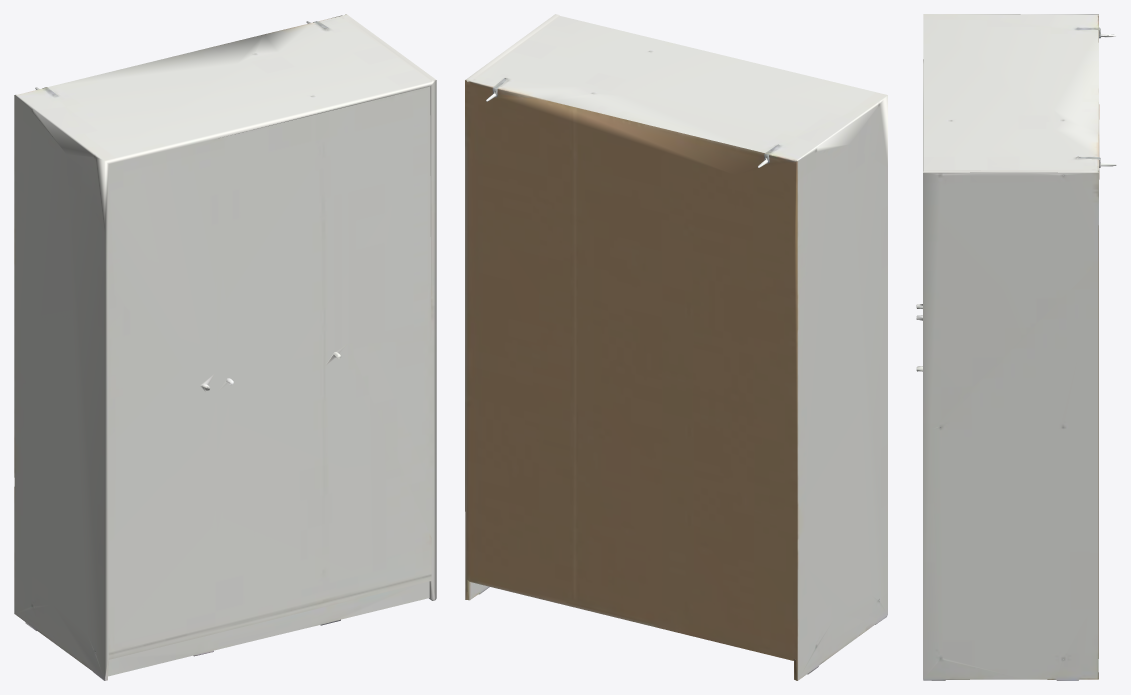
3 views of the same model, side by side, from view 1: azimuth 30°, elevation 25°; view 2: azimuth 150°, elevation 25°; view 3: azimuth 270°, elevation 25° (orthographic). The views are drawn at different scales.
Parts seen in each view (by area): view 1: ProcessedMeshNode; view 2: ProcessedMeshNode; view 3: ProcessedMeshNode.
Boxes of the visible parts, x1,y1,x2,y2 form: ProcessedMeshNode: (14, 14, 436, 680); ProcessedMeshNode: (465, 14, 887, 680); ProcessedMeshNode: (916, 14, 1116, 680).
Bounding box in the file's own units: 1.18 × 1.76 × 0.6263.
Materials: 1 (1 with a texture image).
